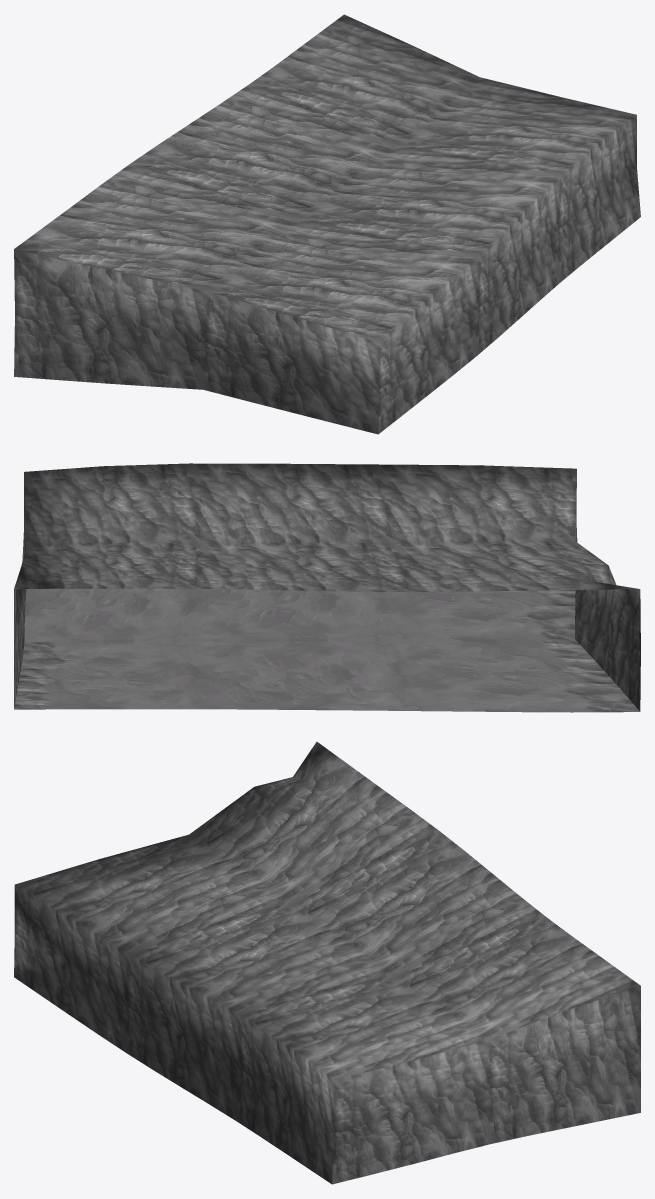
The model's file is SWORDLIGHT20_PS-AREA04_08.fbx.
3 views of the same model, one above another, from view 1: azimuth 30°, elevation 25°; view 2: azimuth 150°, elevation 25°; view 3: azimuth 270°, elevation 25° (orthographic). The views are drawn at different scales.
Visible parts, largest first — view 1: SWORDLIGHT20_PS-AREA04_08; view 2: SWORDLIGHT20_PS-AREA04_08; view 3: SWORDLIGHT20_PS-AREA04_08.
Part boxes in pixels (x1,y1,x2,y2): SWORDLIGHT20_PS-AREA04_08: [14, 14, 640, 434]; SWORDLIGHT20_PS-AREA04_08: [14, 463, 640, 712]; SWORDLIGHT20_PS-AREA04_08: [14, 741, 640, 1184].
Size of the model in its own units: 195498 by 37829 by 165321.
4 materials, 4 textured.
